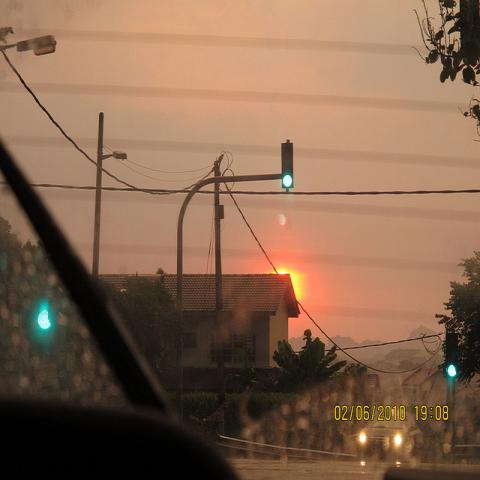car: (356, 407, 424, 462)
